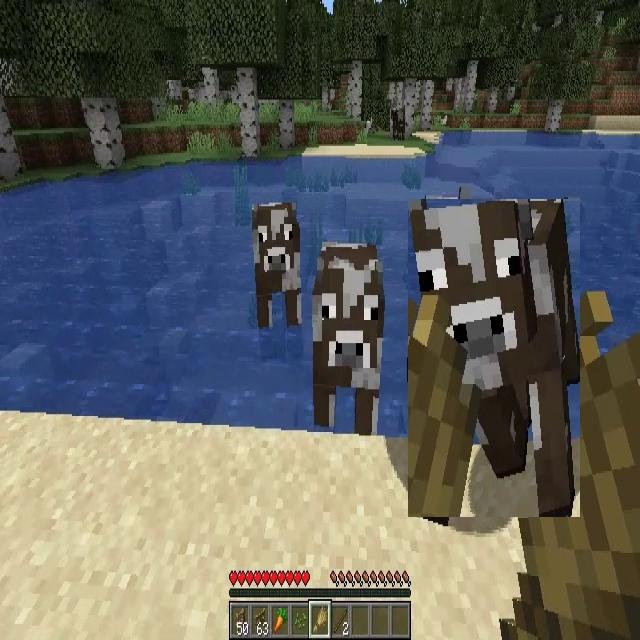cow: (408, 199, 580, 517), (312, 242, 383, 429), (252, 203, 300, 324), (390, 108, 405, 143)
